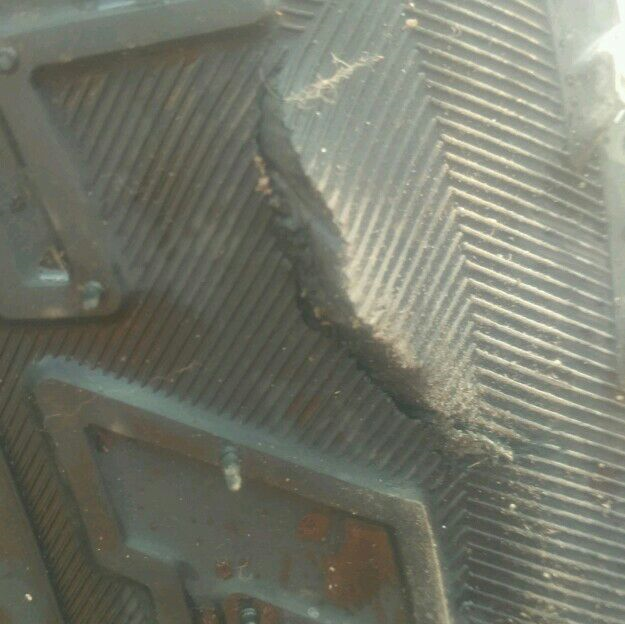cut: (250, 47, 500, 447)
